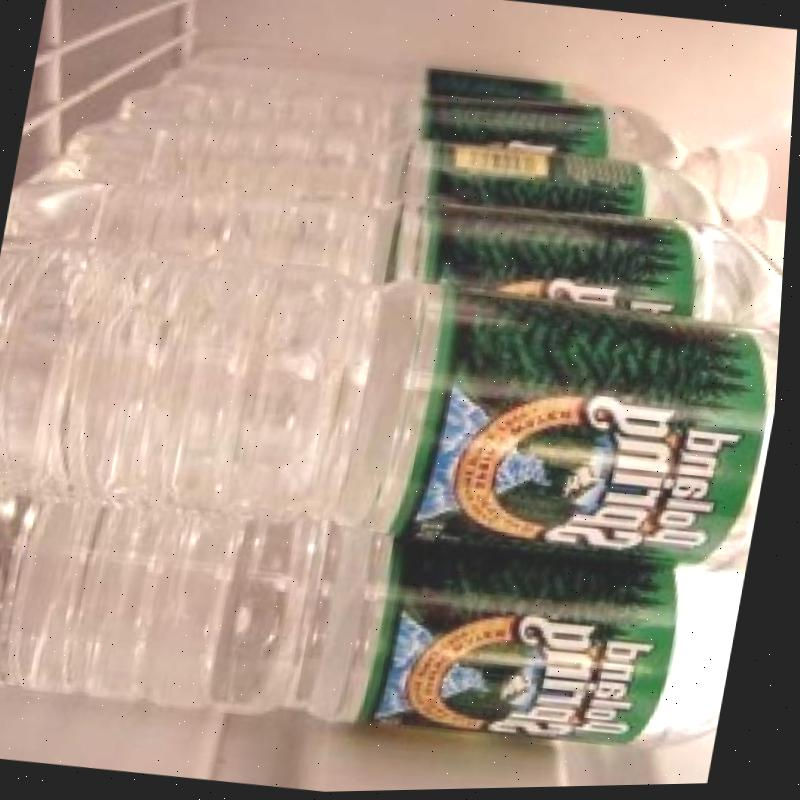botella: (0, 222, 789, 588), (0, 476, 756, 777), (0, 155, 792, 351), (106, 44, 783, 230), (57, 96, 795, 263), (190, 32, 655, 121)
